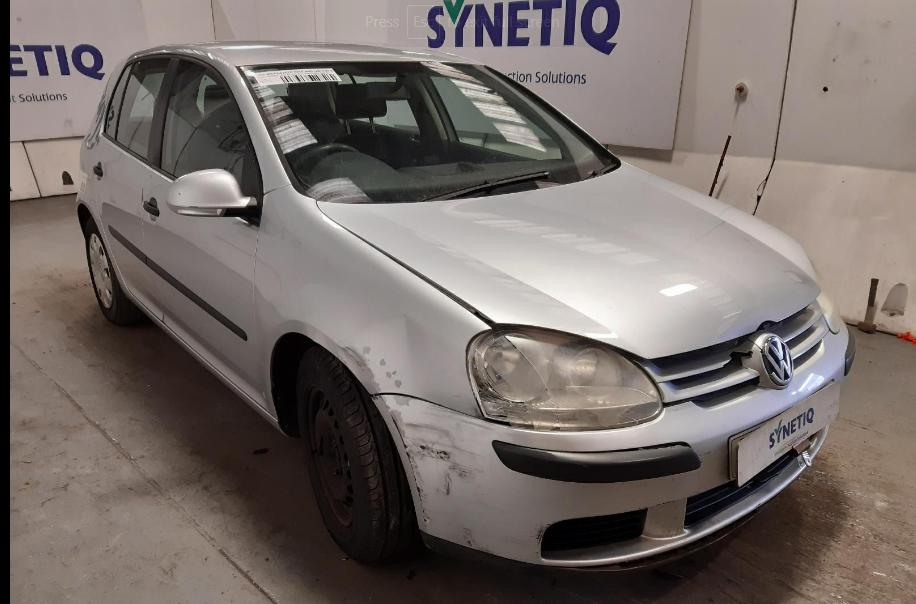Back-door: (91, 55, 173, 303)
Back-wheel: (84, 220, 130, 325)
Back-window: (105, 58, 170, 161)
Fender: (255, 184, 497, 420)
Front-bumper: (373, 301, 856, 572)
Front-door: (142, 54, 265, 406)
Front-wheel: (297, 350, 416, 564)
Front-window: (160, 60, 264, 226)
Grille: (658, 340, 760, 405), (775, 311, 820, 368)
Headlight: (465, 326, 663, 431), (818, 293, 843, 334)
Hood: (318, 160, 821, 361)
License-plate: (737, 381, 839, 488)
Mirror: (165, 168, 257, 216)
Quarter-panel: (76, 124, 124, 284)
Rocker-panel: (120, 283, 280, 431)
Roof: (191, 40, 482, 66)
Windshield: (238, 62, 622, 204)
